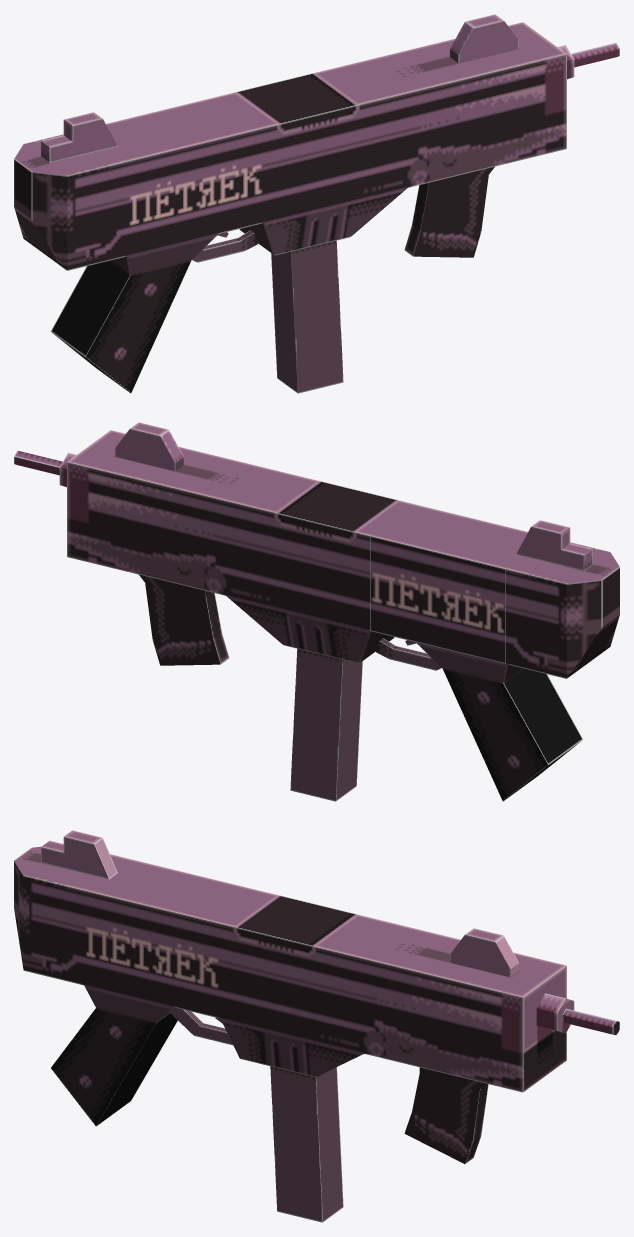
File: metralhadoraMetreca.fbx
3 renders of one model, top to bottom at view 1: azimuth 30°, elevation 25°; view 2: azimuth 150°, elevation 25°; view 3: azimuth 330°, elevation 25°, orthographic.
Visible parts, largest first — view 1: Cube; view 2: Cube; view 3: Cube.
Boxes of the visible parts, <box> form: Cube: <box>14,14,619,393</box>; Cube: <box>14,422,619,801</box>; Cube: <box>14,830,619,1222</box>.
Size of the model in its own units: 490 by 250 by 62.5.
